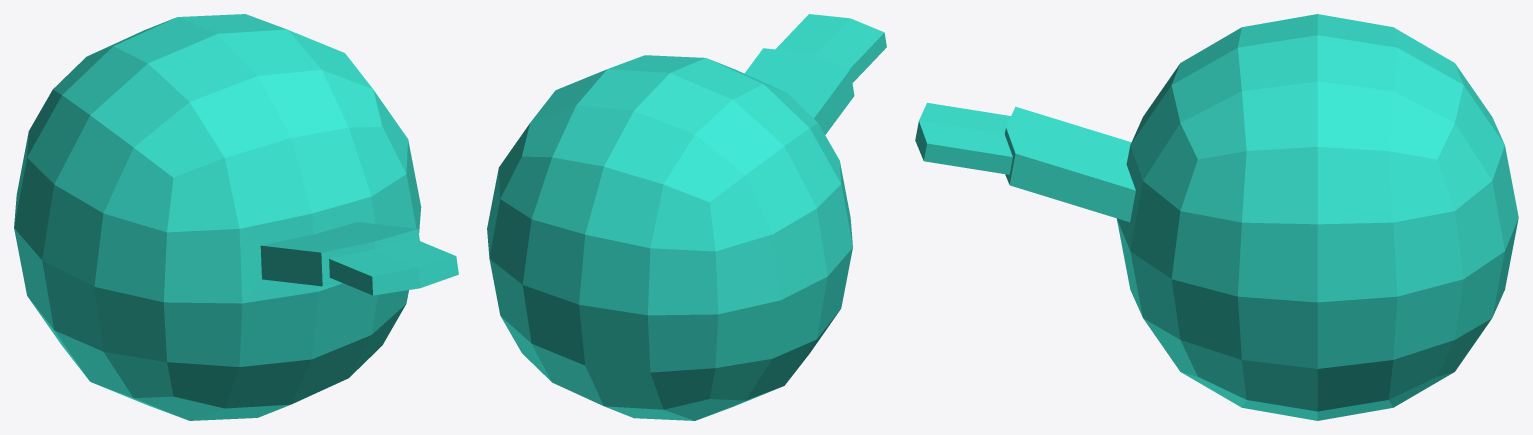
Rendered from canhaum 1.fbx.
The picture shows the model from 3 angles, left to right: view 1: azimuth 30°, elevation 25°; view 2: azimuth 150°, elevation 25°; view 3: azimuth 270°, elevation 25°; orthographic projection. The views are drawn at different scales.
Visible parts, largest first — view 1: Canhaum 1; view 2: Canhaum 1; view 3: Canhaum 1.
Part boxes in pixels (x1=…): Canhaum 1: x1=14, y1=14, x2=458, y2=420; Canhaum 1: x1=487, y1=14, x2=886, y2=420; Canhaum 1: x1=915, y1=14, x2=1518, y2=420.
Bounding box in the file's own units: 168 × 168 × 252.
